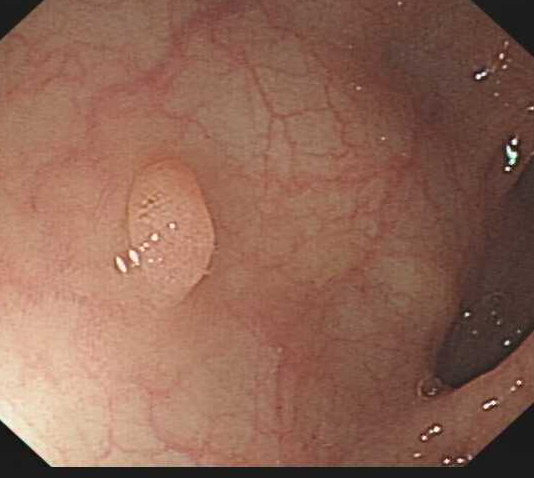others: (123, 155, 217, 307)
